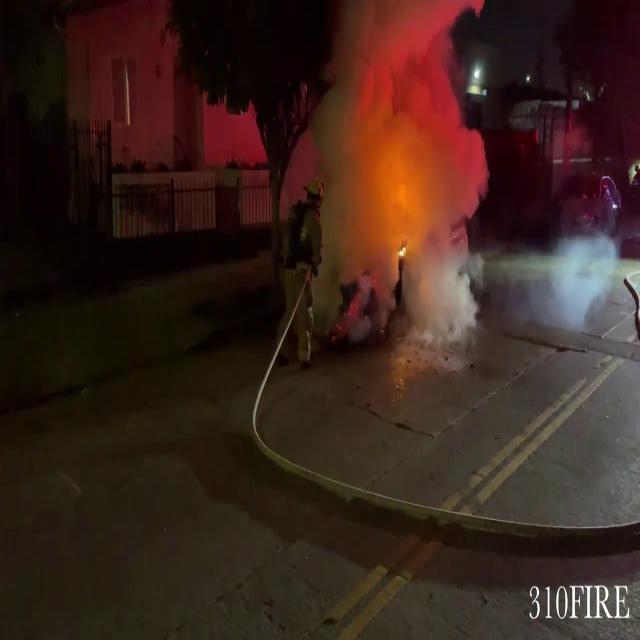Smoke: (301, 0, 488, 318)
